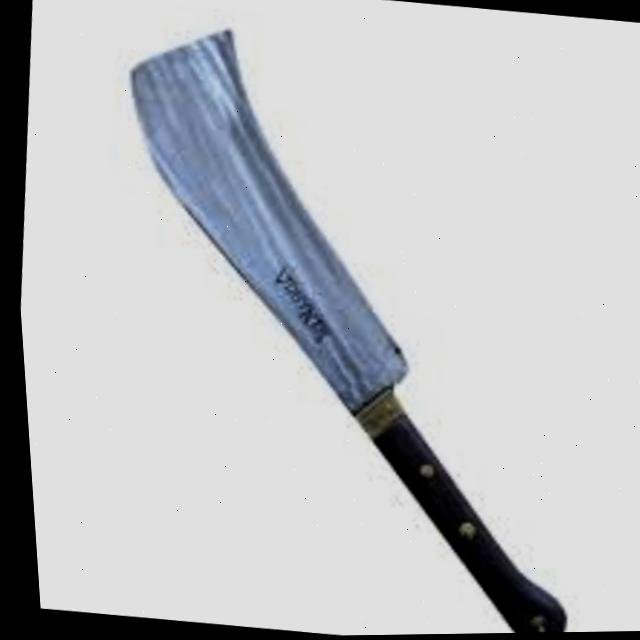knife: (69, 11, 620, 639)
